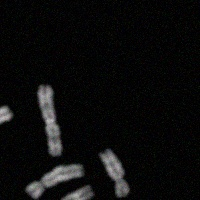chromosome: (27, 163, 83, 198), (37, 87, 62, 157), (99, 147, 129, 196), (49, 184, 94, 200), (0, 107, 14, 147)
